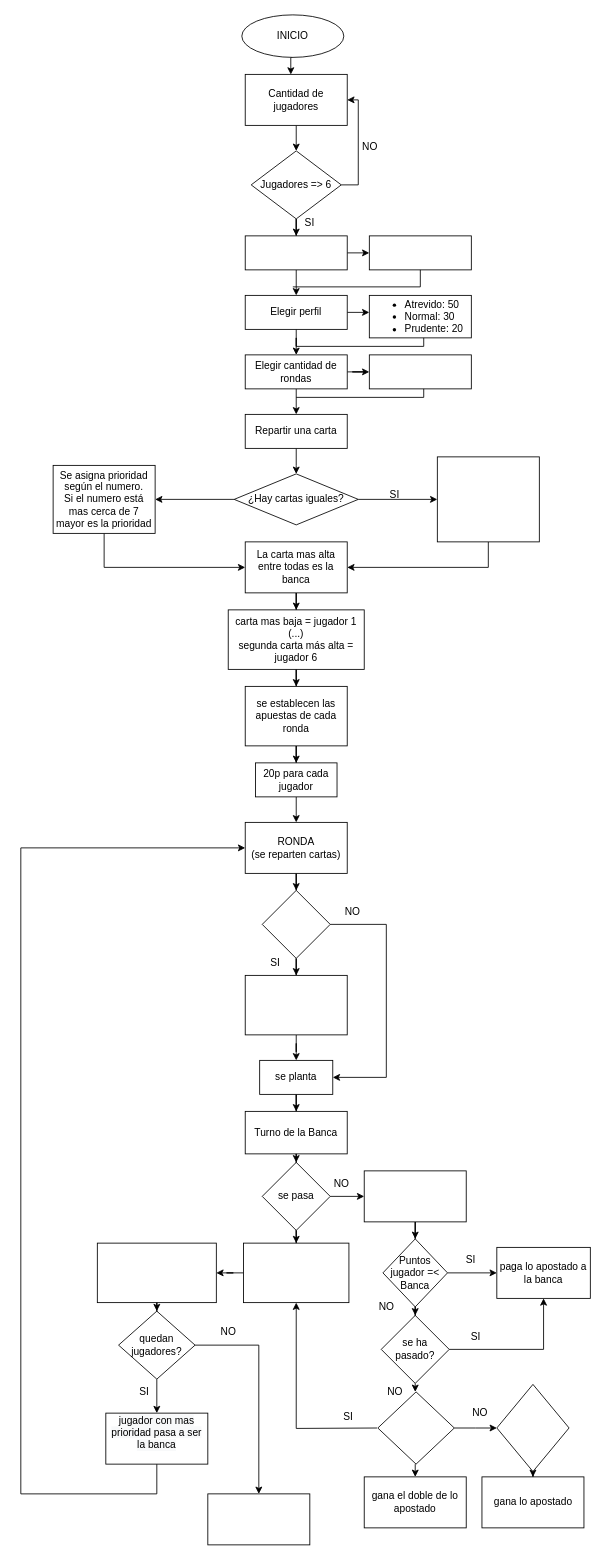
The diagram is 605 pixels wide and 1560 high, and some of its shapes have lost their labels. The centre of each missing label's shape, as x and y in pixels:
"+ cartas" goes at (x=295, y=924).
"comparamos puntuaciones" goes at (x=414, y=1196).
"Escoger Baraja" goes at (x=295, y=252).
"Española Poker" goes at (x=419, y=252).
"FIN DEL JUEGO" goes at (x=258, y=1519).
"pedir cartas hasta acercarse o igualar la puntuación de 7 y medio" goes at (x=295, y=1005).
"Pierde la banca y paga a todos los jugadores que no se hayan pasado" goes at (x=296, y=1272).
"recuento de puntos para saber quien sigue jugando y quien no" goes at (x=156, y=1272).
"rondas =< 30" goes at (x=419, y=371).
"Se asigna prioridad según el palo: Oro Copas Espadas Bastos" goes at (x=487, y=499).
"Tiene 7 y medio" goes at (x=415, y=1427).
"Tiene mas puntos que la banca" goes at (x=532, y=1428).
